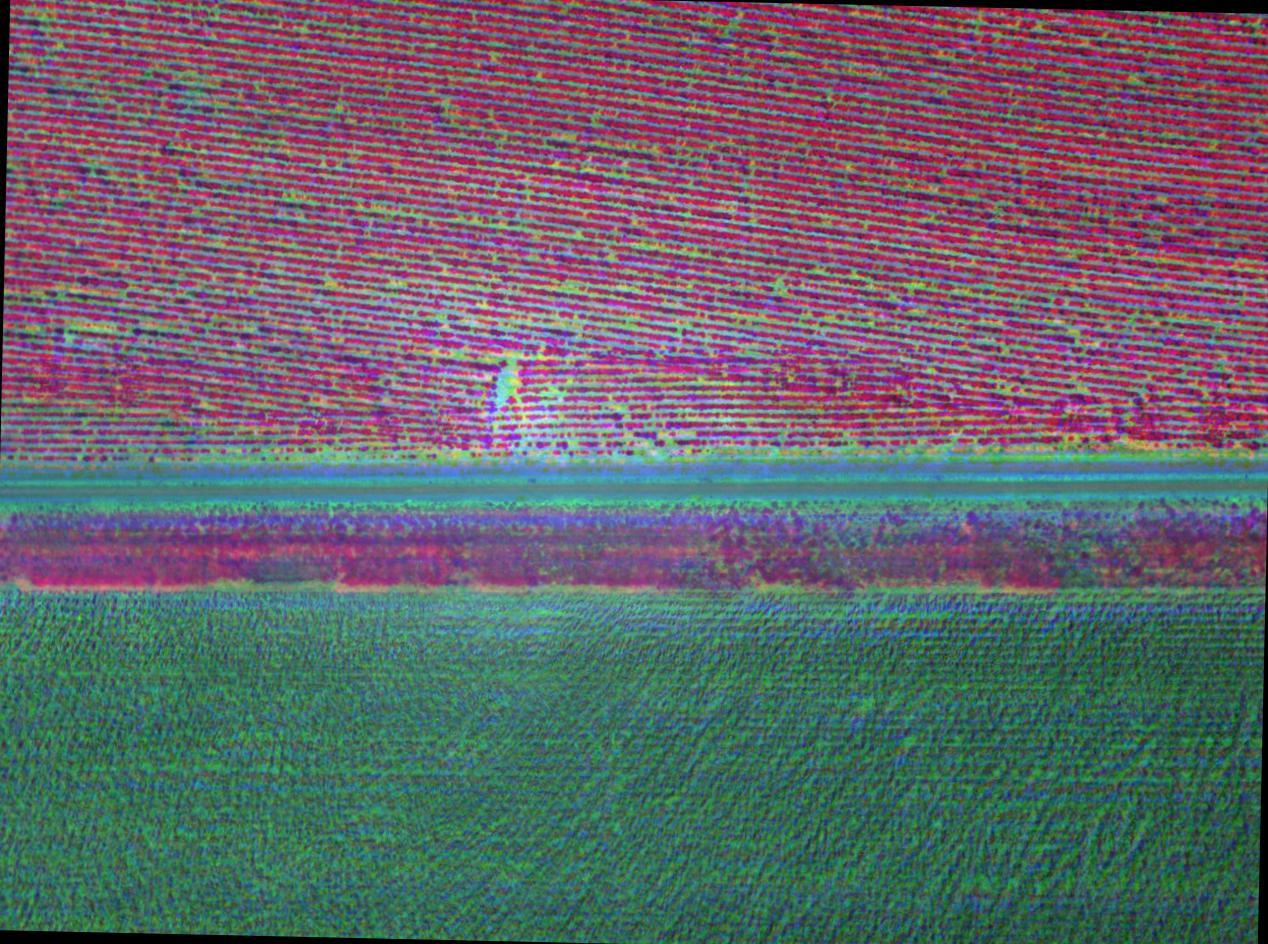dc: (498, 393, 505, 401), (506, 373, 512, 381)
